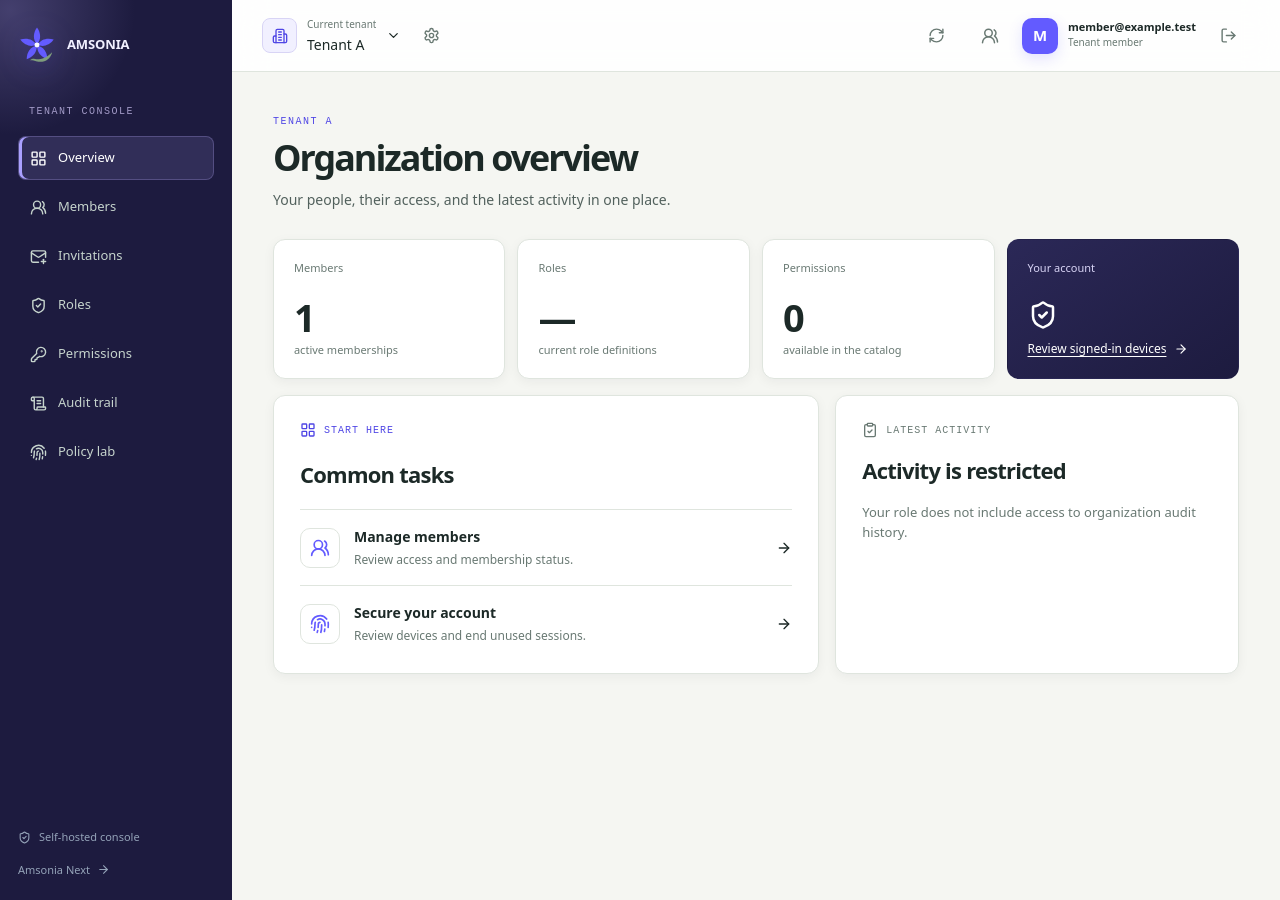
falls back to an accessible tenant when the selected membership disappears
Check: the heading "Organization overview" is shown, box [273,137,670,178]
Click the button "Members". click: point(116, 207)
box: [18,185,214,229]
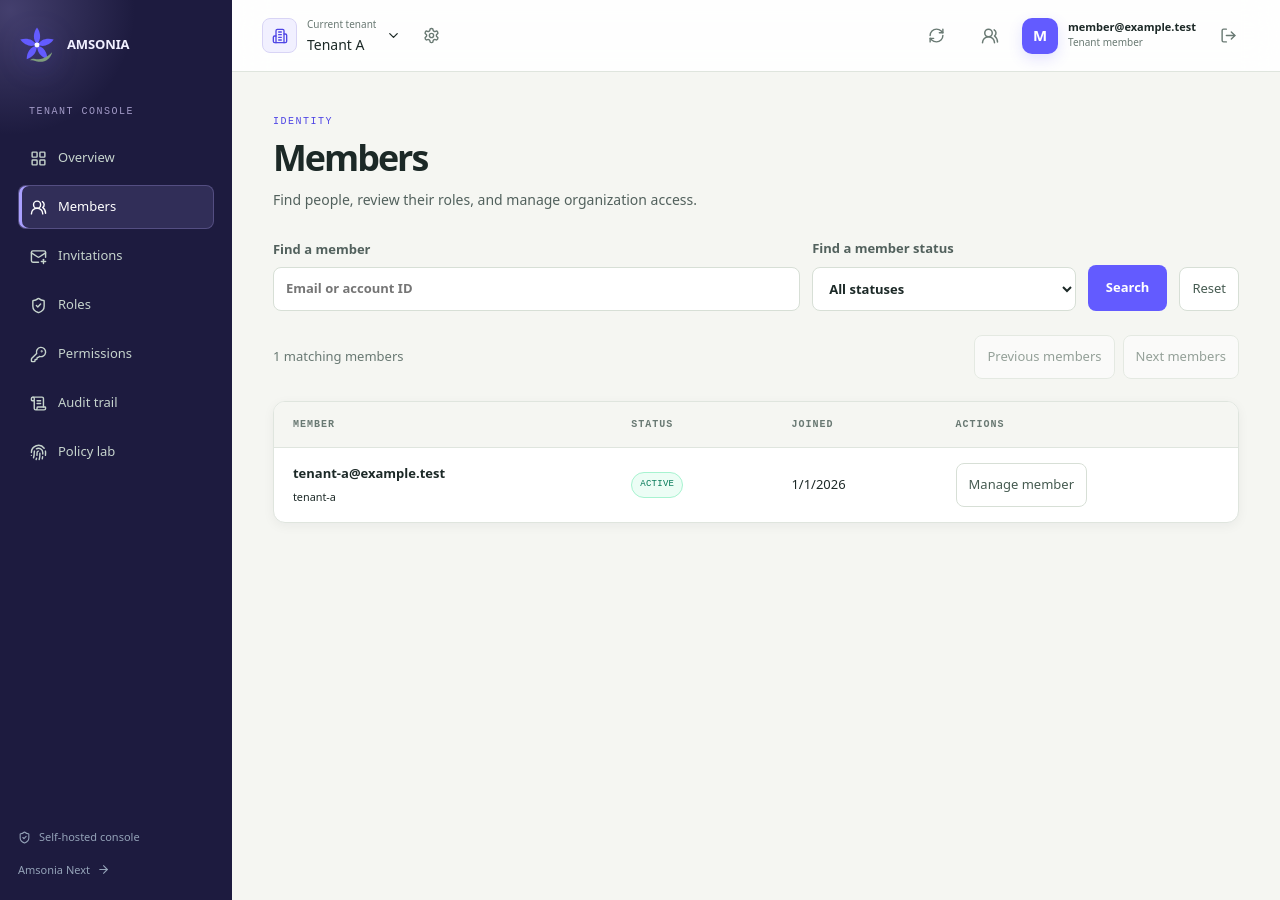
Check: the text "tenant-a@example.test" is shown, box [293,464,445,482]
Click the button named "Refresh workspace". click: point(936, 36)
box: [914,14,958,58]
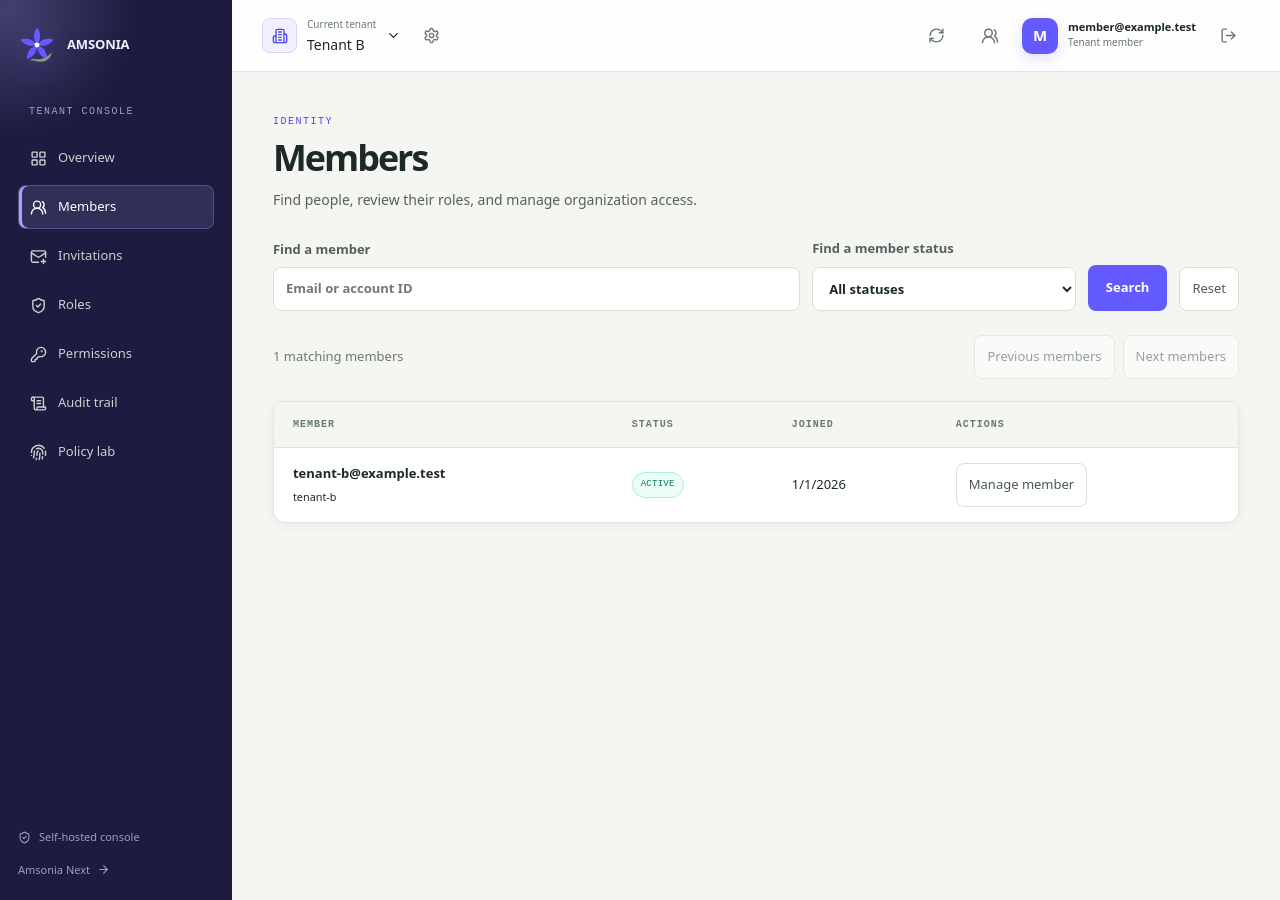
Check: the text "tenant-b@example.test" is shown, box [293,464,446,482]
Check: the text "tenant-a@example.test" is gone
Check: the text "tenant-b" is shown, box [293,489,336,504]
